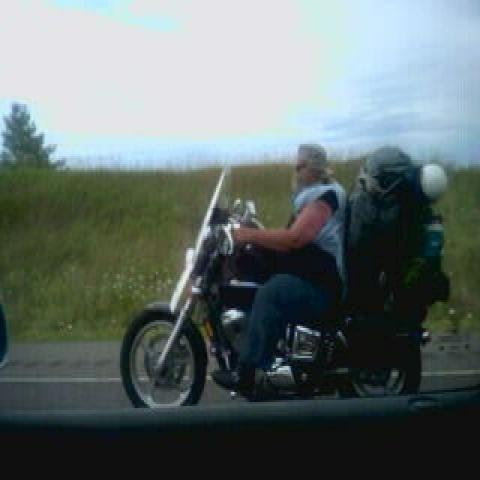motorcycle: (120, 170, 452, 408)
